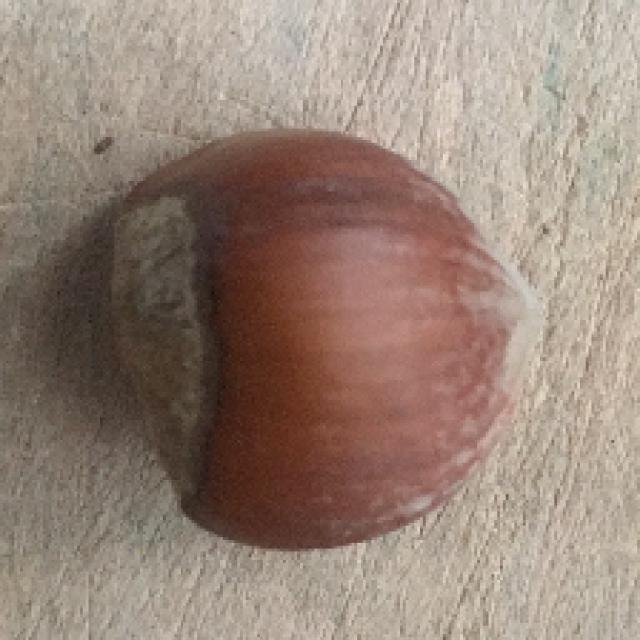qualityHazelnut: (92, 132, 539, 547)
